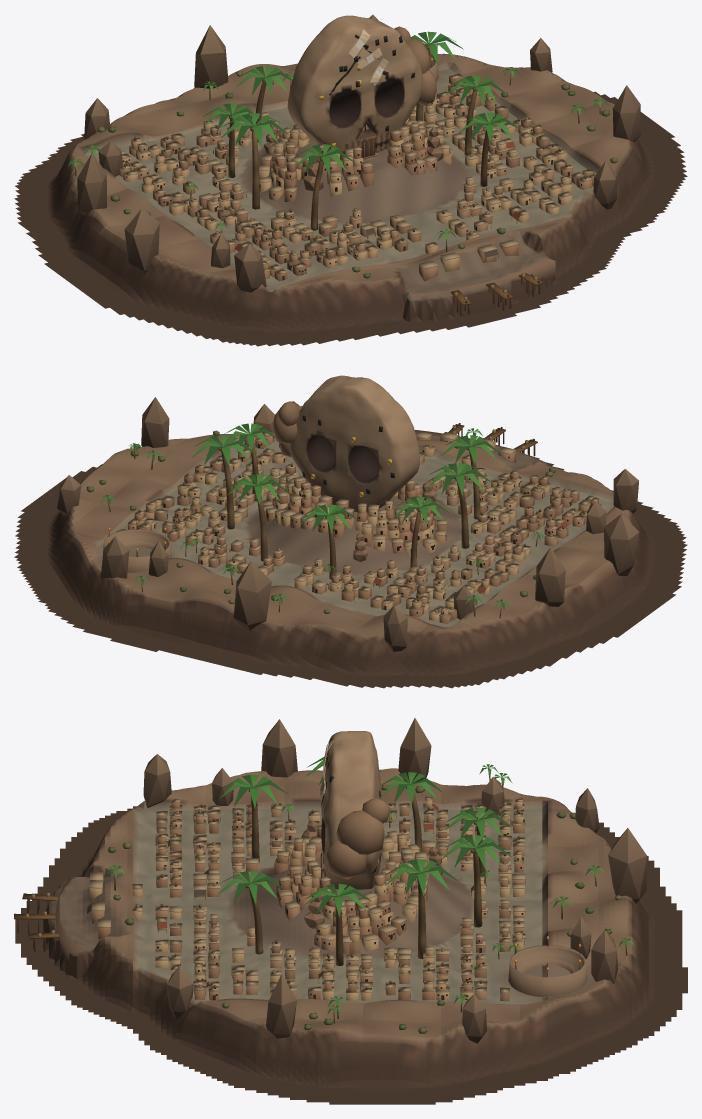
3 renders of one model, top to bottom at view 1: azimuth 30°, elevation 25°; view 2: azimuth 150°, elevation 25°; view 3: azimuth 270°, elevation 25°, orthographic. The views are drawn at different scales.
Visible parts, largest first — view 1: BASE, VILLE_2, VILLE_3; view 2: BASE, VILLE_2, VILLE_3, VILLE_4; view 3: BASE, VILLE_2, VILLE_3, VILLE_4.
Part boxes in pixels (x1,y1,x2,y2): BASE: (14,14,687,346); VILLE_2: (152,91,557,260); VILLE_3: (102,73,596,281); BASE: (14,375,687,688); VILLE_2: (162,444,544,610); VILLE_3: (116,429,601,623); VILLE_4: (102,521,171,572); BASE: (14,718,687,1104); VILLE_2: (128,807,525,1000); VILLE_3: (155,796,525,1001); VILLE_4: (508,936,587,997).
Bounding box in the file's own units: 68 × 19.91 × 60.12.
